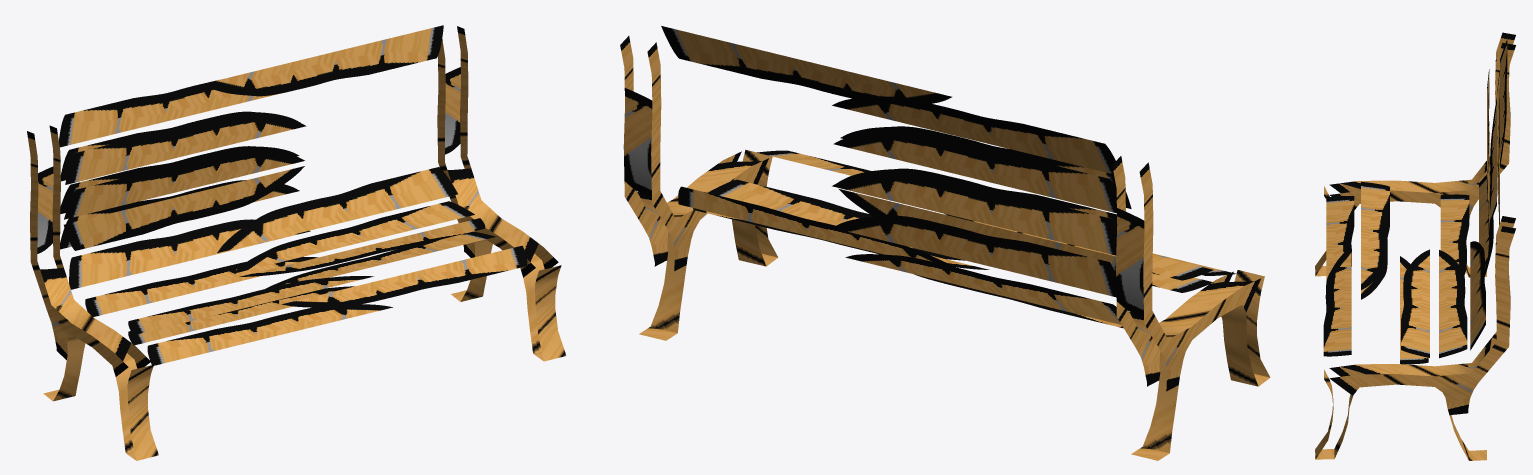
The model's file is Bench.fbx.
3 views of the same model, side by side, from view 1: azimuth 30°, elevation 25°; view 2: azimuth 150°, elevation 25°; view 3: azimuth 270°, elevation 25° (orthographic). The views are drawn at different scales.
Visible parts, largest first — view 1: Bench; view 2: Bench; view 3: Bench.
Part boxes in pixels (x1,y1,x2,y2): Bench: [27, 25, 566, 460]; Bench: [620, 26, 1270, 460]; Bench: [1315, 32, 1515, 460].
Size of the model in its own units: 250 by 137 by 103.
1 material, 1 textured.
